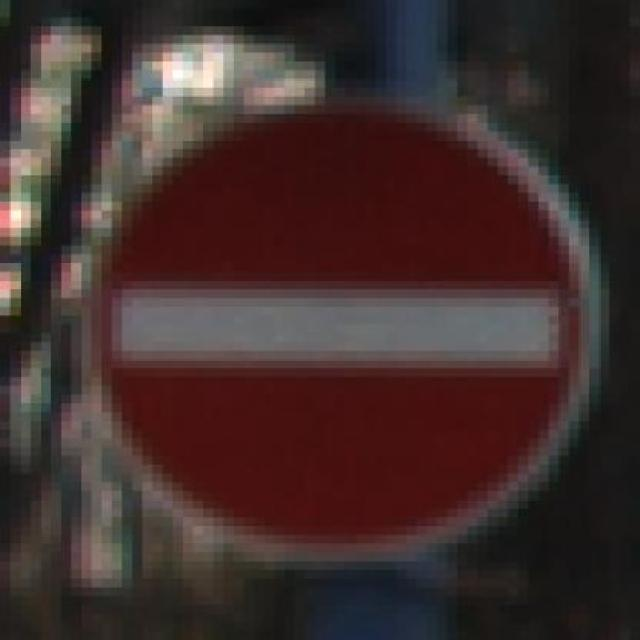No Entry: (61, 96, 610, 553)
